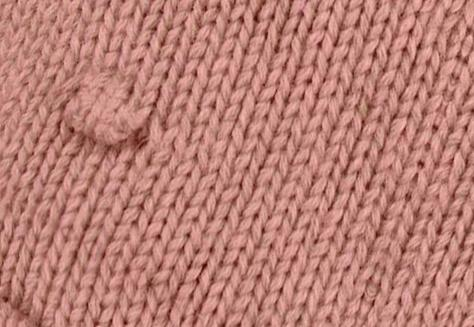knot: (60, 73, 156, 146)
